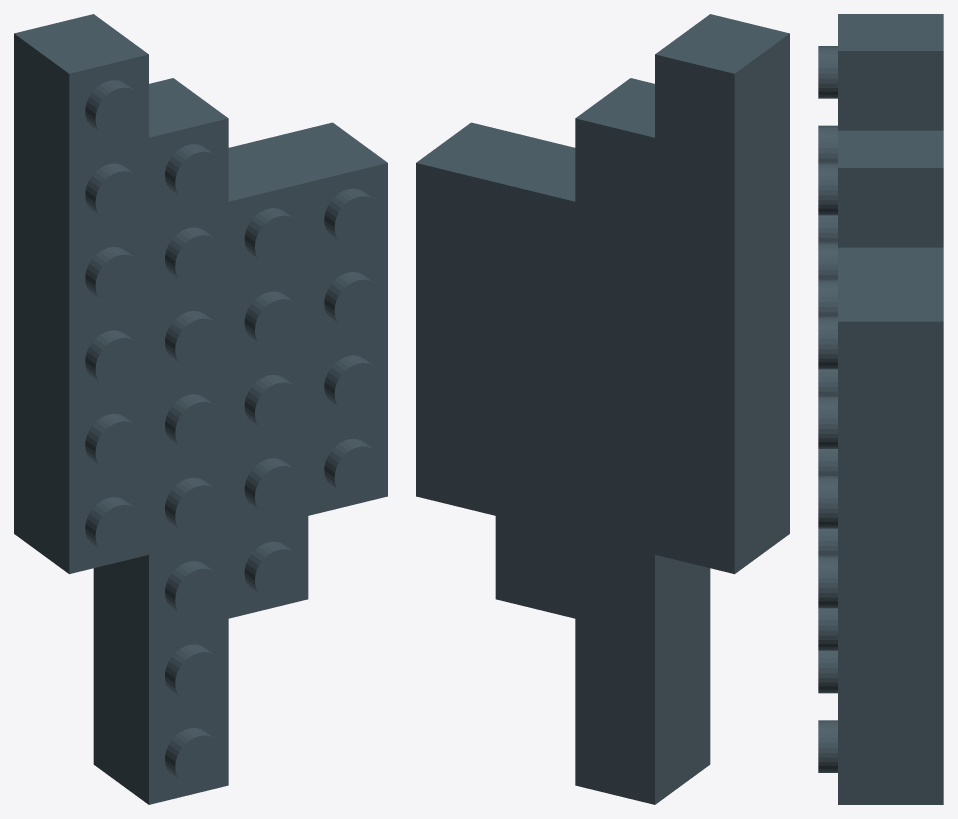
File: current.glb
3 views of the same model, side by side, from view 1: azimuth 30°, elevation 25°; view 2: azimuth 150°, elevation 25°; view 3: azimuth 270°, elevation 25° (orthographic). The views are drawn at different scales.
Visible parts, largest first — view 1: world; view 2: world; view 3: world.
Boxes of the visible parts, x1,y1,x2,y2 form: world: (14, 14, 387, 804); world: (416, 14, 789, 804); world: (818, 14, 943, 804).
Bounding box in the file's own units: 32 × 72 × 11.4.
